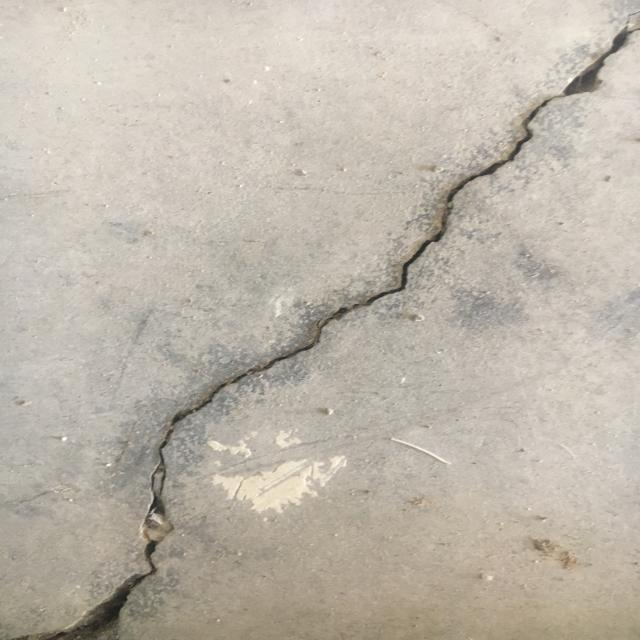Rachadura: (13, 13, 640, 640)
